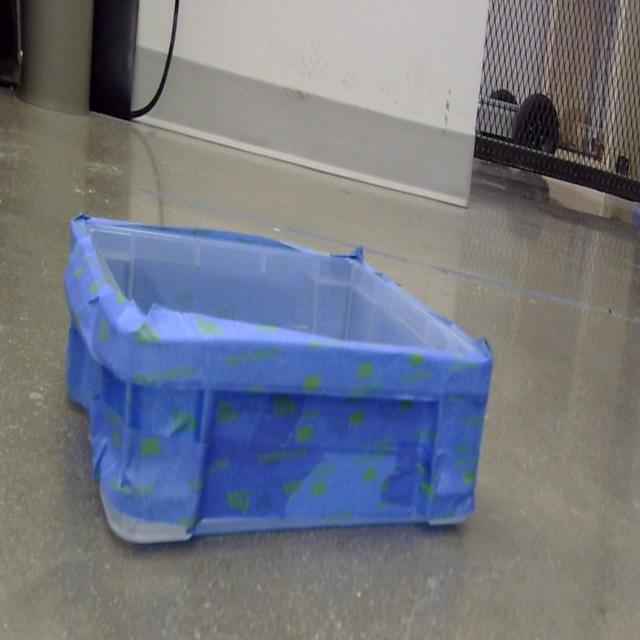bucket: (63, 215, 494, 549)
